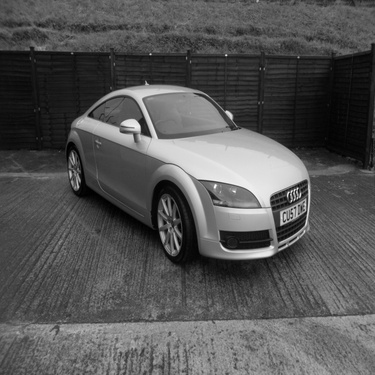car: (63, 73, 318, 267)
